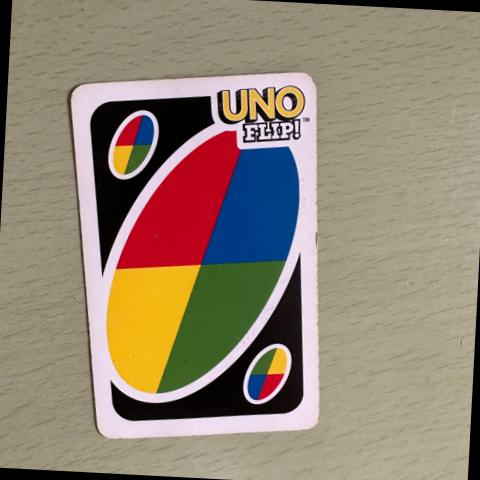lcolor-40: (83, 98, 163, 184)
